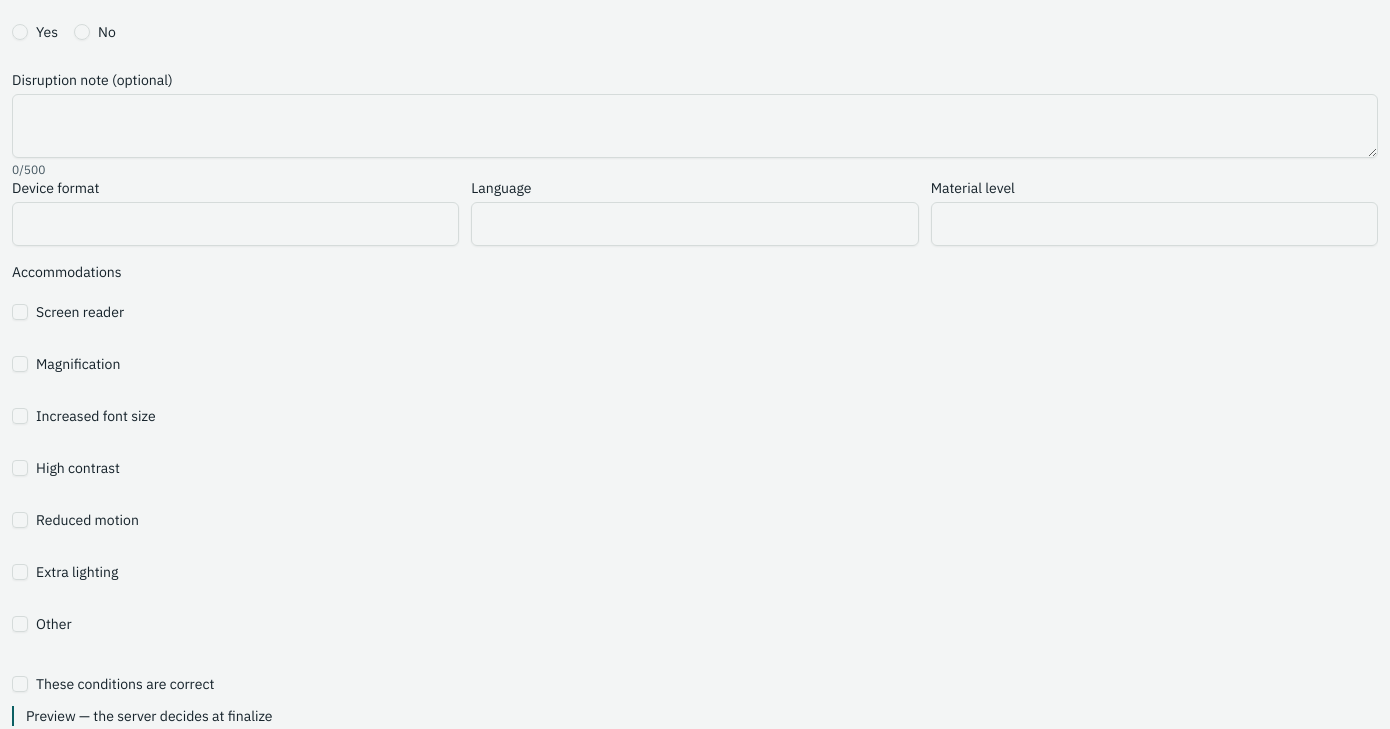
Test: ReviewAttestation › disruption Yes lists the materially_disrupted copy in the preview
This screenshot has width=1390, height=729.
What coordinates should you click on to do the following:
click the radio button named "Yes" next to "Yes"
I would click on:
 (20, 32)
Its box is x1=12 y1=24 x2=28 y2=40.
(page scrolled)
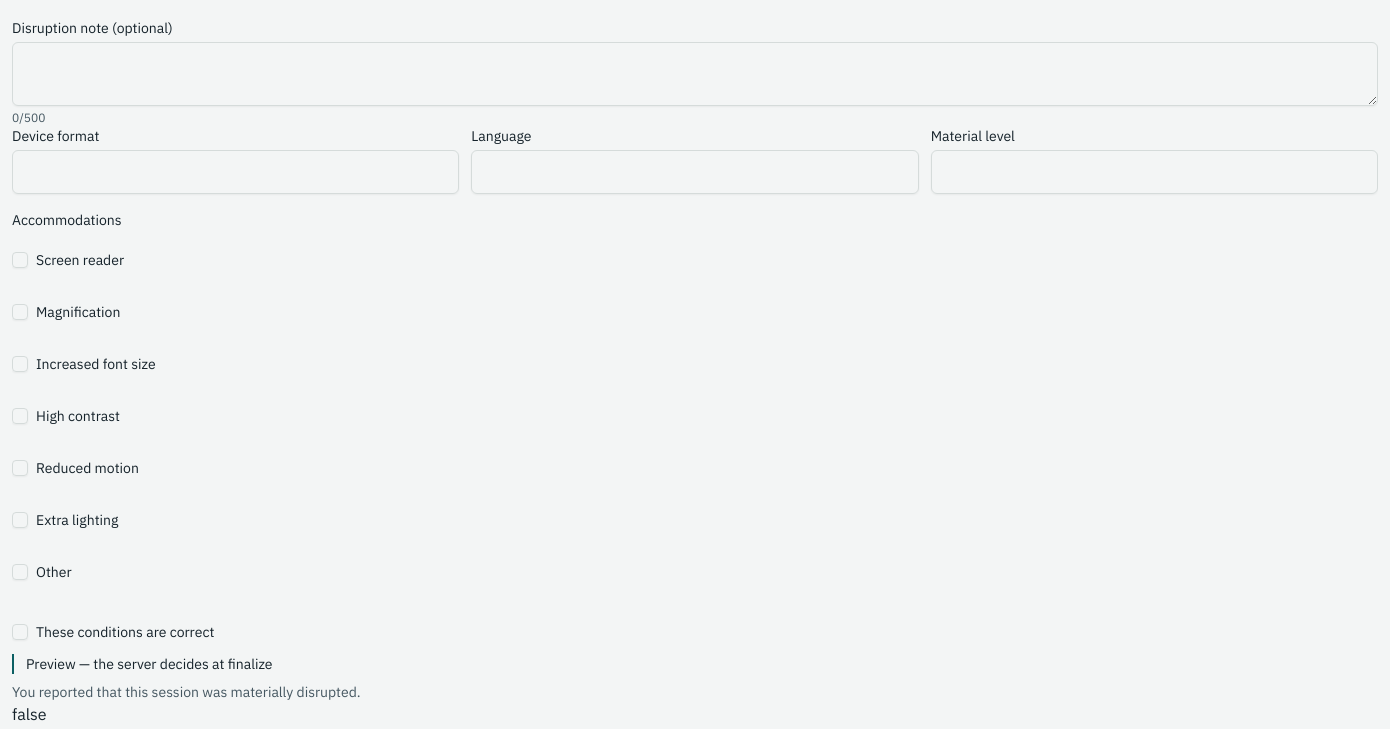
Expected: the list item "You reported that this session was materially disrupted." is shown, x1=12 y1=683 x2=361 y2=701
